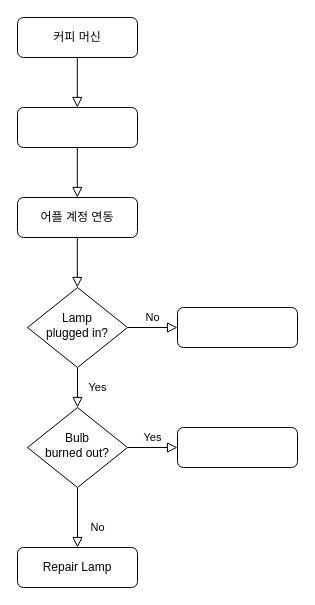
This 315x605 diagram has some shape labels left out. The centre of each missing label's shape, as x and y in pixels:
Plug in lamp: the point at 237,327
Replace Bulb: the point at 237,447
블루투스 연결: the point at 77,127
